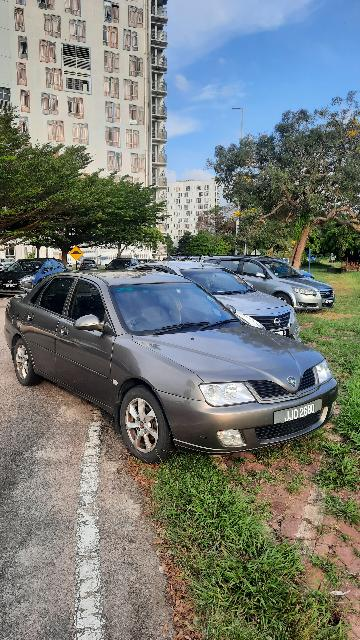License_Plate: (270, 387, 325, 432)
car: (5, 263, 343, 466)
